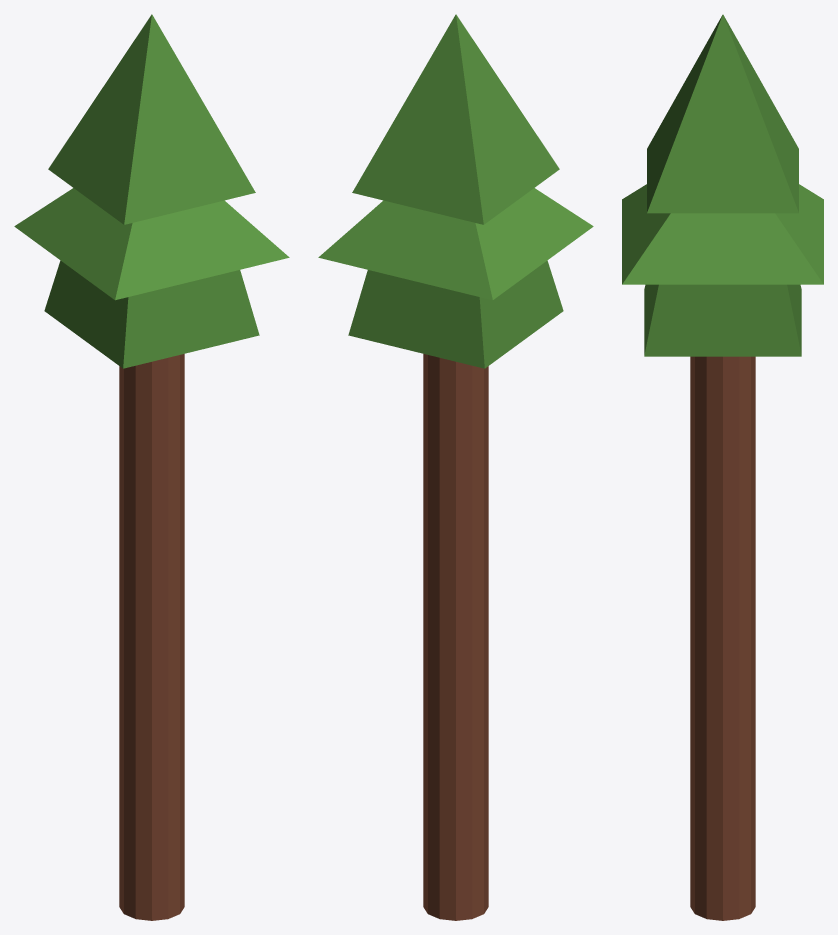
The model's file is Tree_15_summer_mat.fbx.
The picture shows the model from 3 angles, left to right: view 1: azimuth 30°, elevation 25°; view 2: azimuth 150°, elevation 25°; view 3: azimuth 270°, elevation 25°; orthographic projection.
Visible parts, largest first — view 1: Tree_15_summer_mat; view 2: Tree_15_summer_mat; view 3: Tree_15_summer_mat.
Boxes of the visible parts, x1=… form: Tree_15_summer_mat: x1=14, y1=14, x2=289, y2=920; Tree_15_summer_mat: x1=318, y1=14, x2=593, y2=920; Tree_15_summer_mat: x1=622, y1=14, x2=823, y2=920.
Bounding box in the file's own units: 68.73 × 336 × 68.73.
